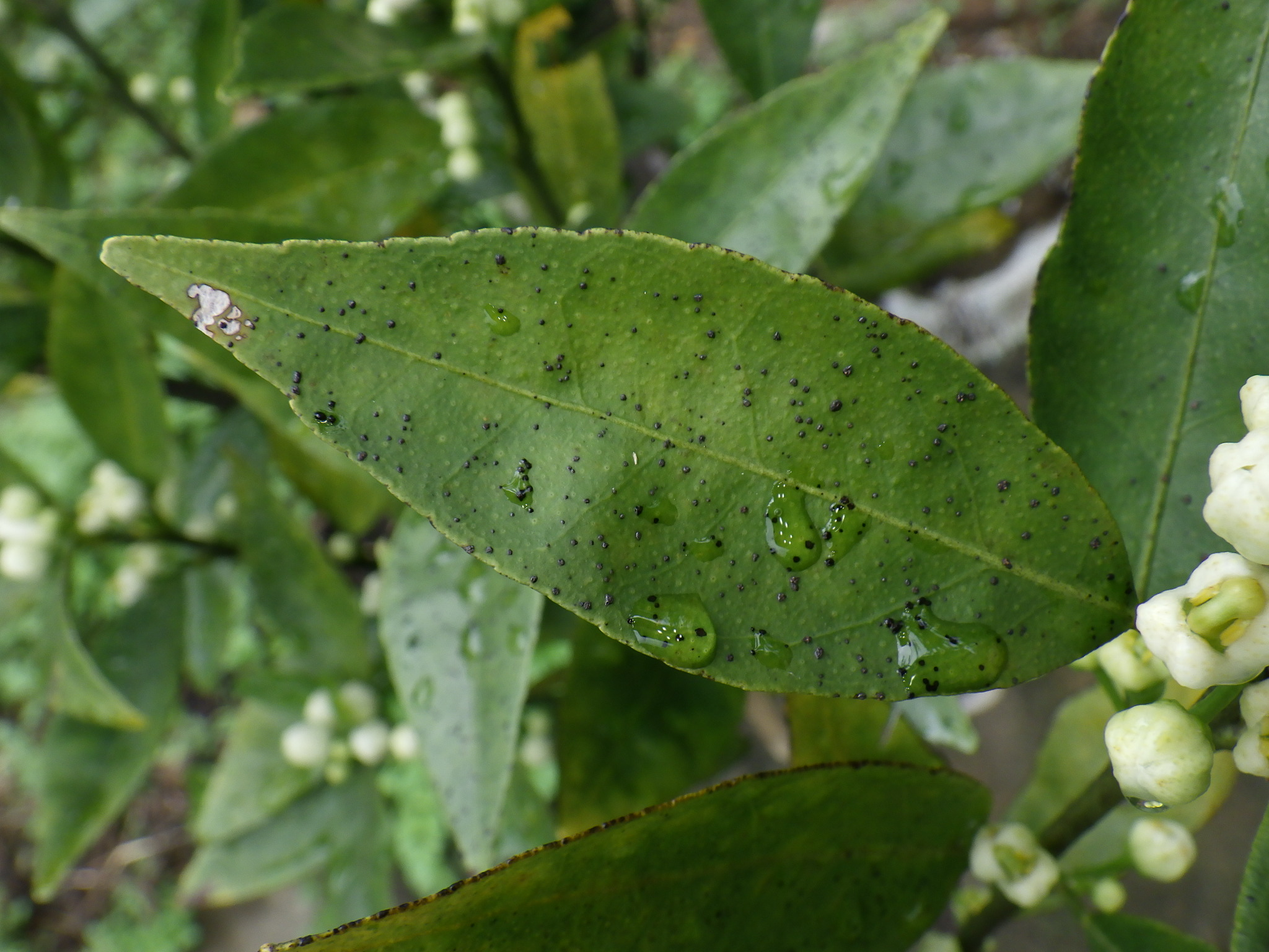Black_Spot: (102, 226, 1135, 696)
